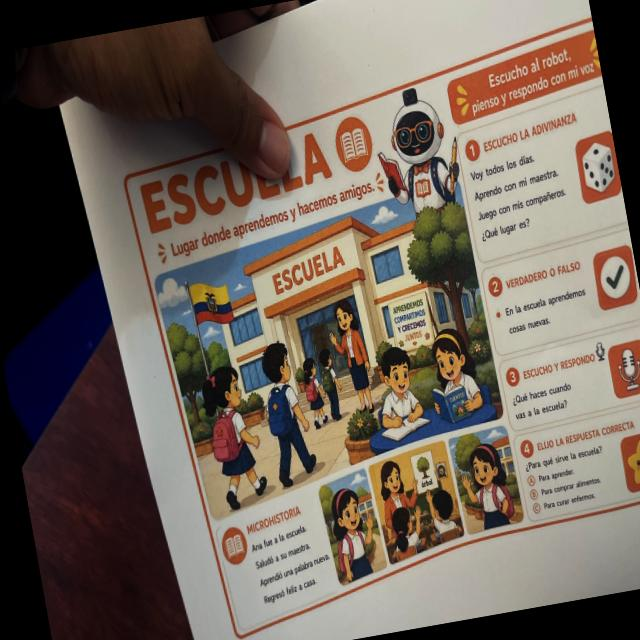escuela: (107, 15, 640, 640)
